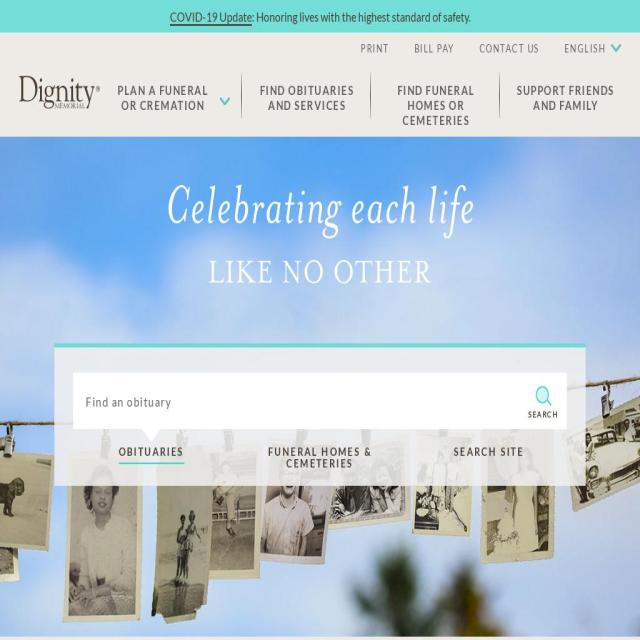button: (242, 445, 398, 469), (19, 76, 100, 110), (466, 33, 552, 65), (551, 33, 621, 65), (401, 33, 467, 65), (342, 33, 402, 65), (118, 445, 184, 464), (454, 445, 524, 457), (535, 385, 551, 406)
field: (73, 372, 567, 429)
heading: (50, 241, 590, 302), (164, 184, 476, 238)
image: (19, 76, 100, 110)
link: (381, 82, 491, 128), (510, 82, 621, 112), (252, 82, 362, 112), (112, 82, 215, 112)
text: (251, 8, 471, 24), (268, 444, 372, 474), (169, 8, 252, 26), (453, 443, 524, 462), (118, 443, 184, 462), (564, 42, 606, 55), (528, 408, 558, 421)
